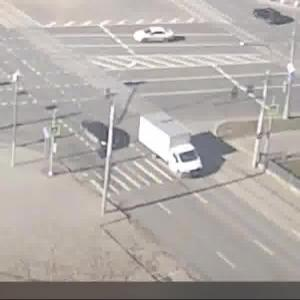car: (138, 115, 205, 177), (81, 115, 125, 153), (132, 25, 178, 46), (252, 4, 288, 28)
